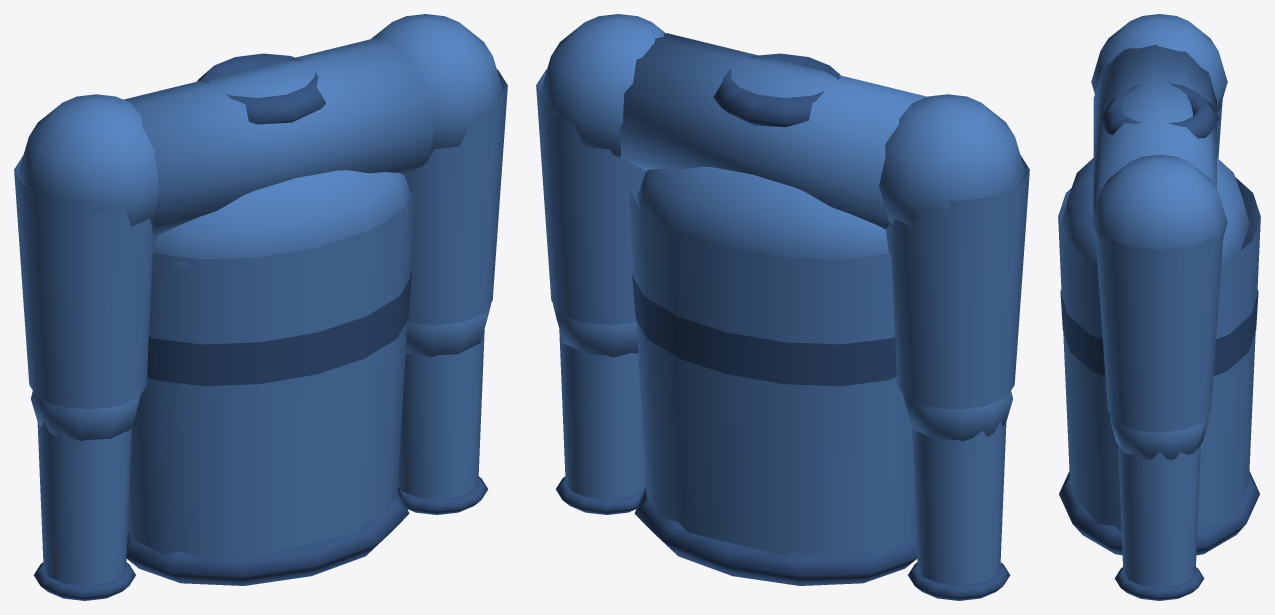
Rendered from top_sweater.glb.
3 views of the same model, side by side, from view 1: azimuth 30°, elevation 25°; view 2: azimuth 150°, elevation 25°; view 3: azimuth 270°, elevation 25° (orthographic). The views are drawn at different scales.
Parts seen in each view (by area): view 1: Body, ArmL, ArmR, ForeArmL, ForeArmR; view 2: Body, ArmL, ArmR, ForeArmL, ForeArmR; view 3: Body, ArmR, ForeArmR, ArmL.
Boxes of the visible parts, x1,y1,x2,y2 form: Body: (124, 38, 434, 585); ArmL: (14, 94, 159, 441); ArmR: (371, 14, 507, 357); ForeArmL: (33, 421, 135, 600); ForeArmR: (397, 329, 488, 514); Body: (619, 33, 926, 585); ArmL: (879, 94, 1029, 441); ArmR: (536, 14, 665, 357); ForeArmL: (908, 421, 1010, 600); ForeArmR: (555, 329, 646, 514); Body: (1058, 44, 1260, 555); ArmR: (1091, 154, 1227, 459); ForeArmR: (1114, 444, 1204, 600); ArmL: (1091, 14, 1227, 158).
Bounding box in the file's own units: 0.576 × 0.556 × 0.2436.
